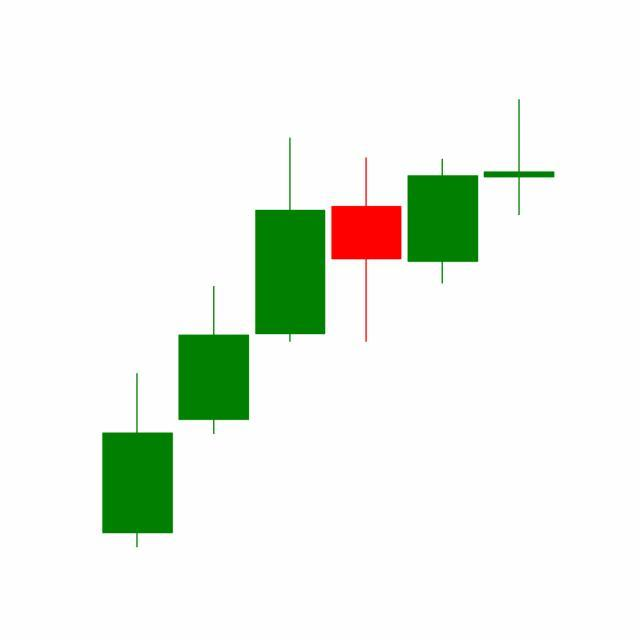Hikkake Pattern: (175, 100, 555, 440)
